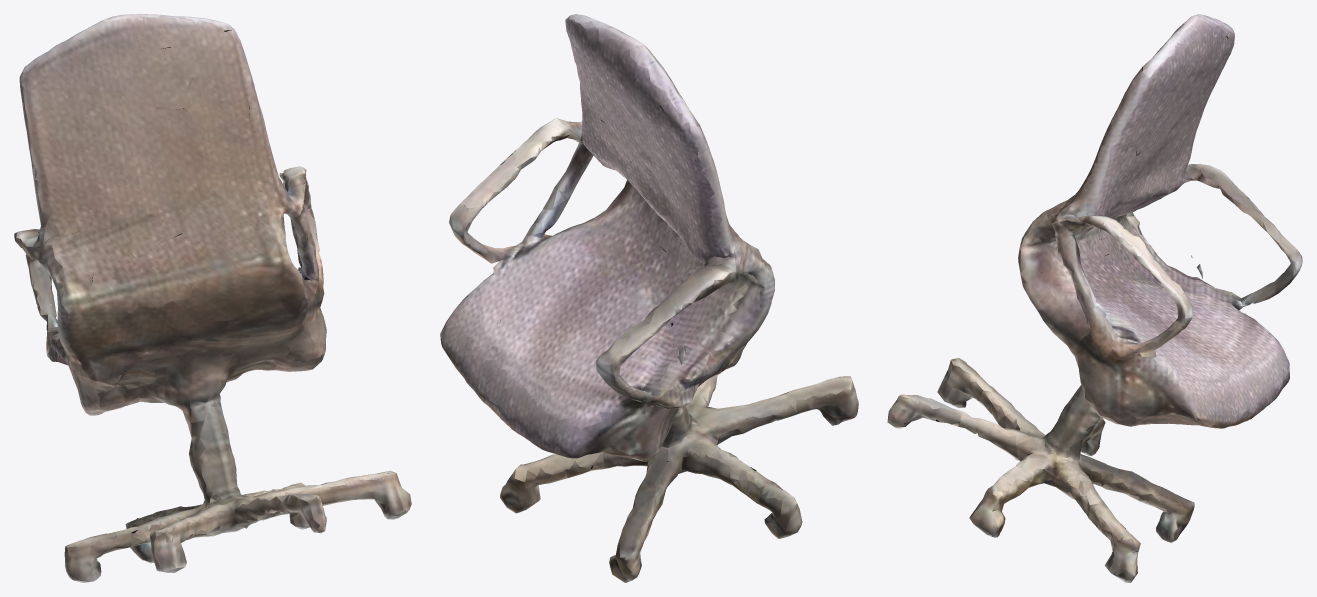
3 views of the same model, side by side, from view 1: azimuth 30°, elevation 25°; view 2: azimuth 150°, elevation 25°; view 3: azimuth 270°, elevation 25° (orthographic). The views are drawn at different scales.
Parts seen in each view (by area): view 1: world; view 2: world; view 3: world.
Part boxes in pixels (x1,y1,x2,y2): world: (14, 14, 411, 582); world: (440, 14, 858, 582); world: (887, 14, 1302, 582).
Bounding box in the file's own units: 0.5262 × 0.9231 × 0.6752.
Materials: 1 (1 with a texture image).
